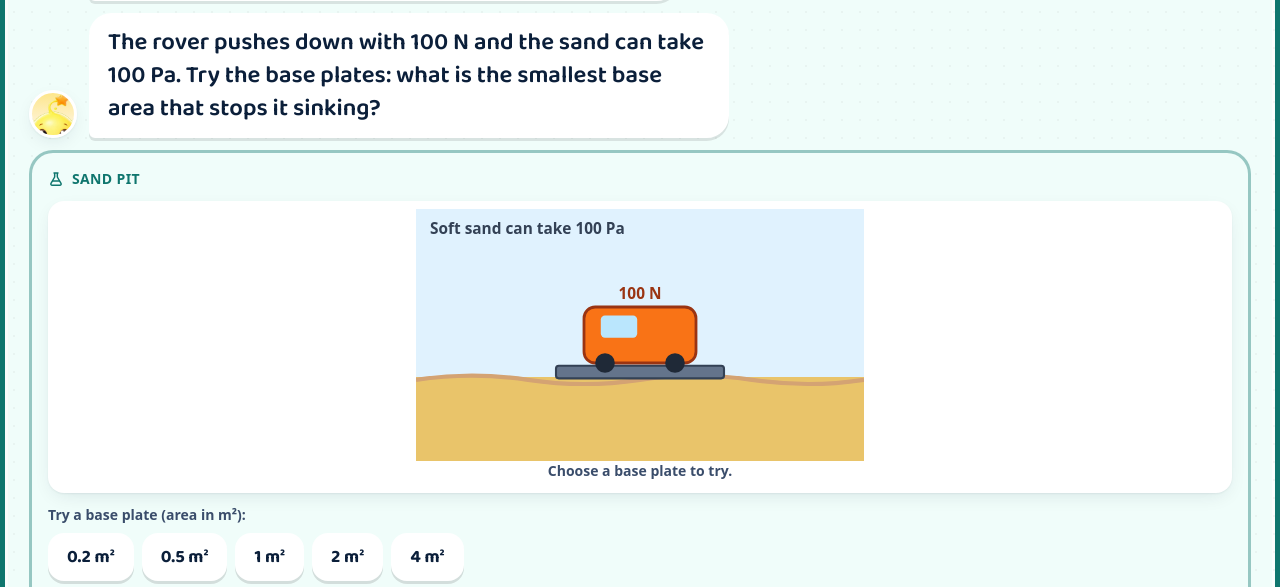
it: hands-on labs › sand pit: choosing a base plate sets the answer and shows whether it sinks
Click the radio button labelled "0.2 m²".
click(91, 557)  # box [48,533,134,581]
(page scrolled)
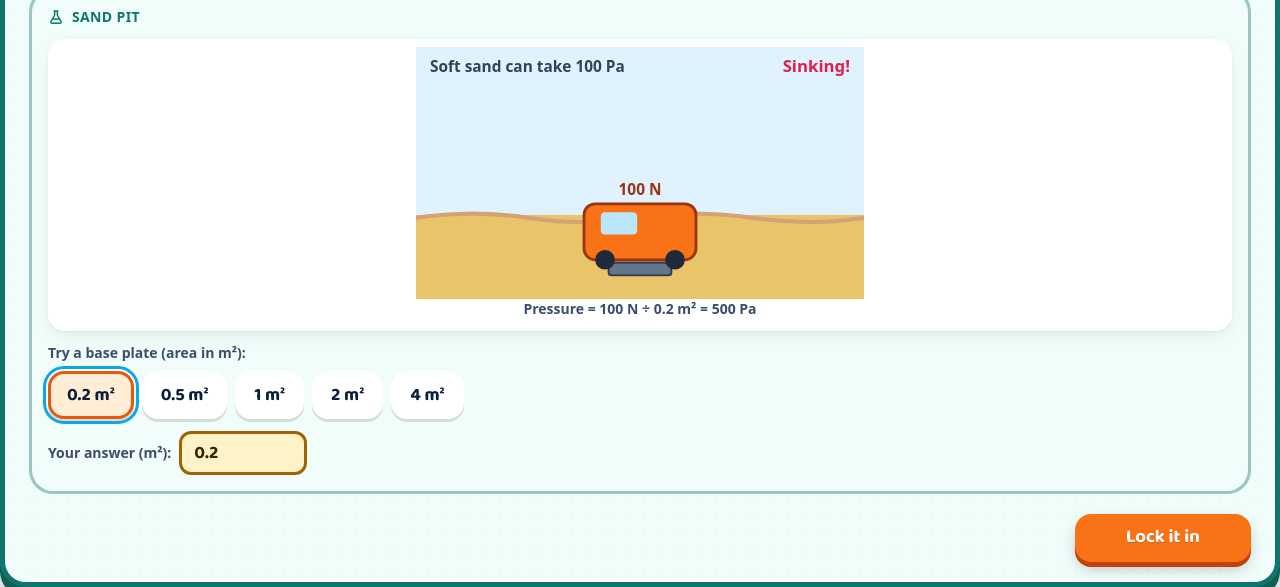
Result: the field holds "0.2" at [179,431,307,475]
Result: the picture "100 N Soft sand can take 100 Pa Sinking!" is shown at [416,47,864,299]
Result: the button "Lock it in" is enabled at [1075,514,1251,562]
